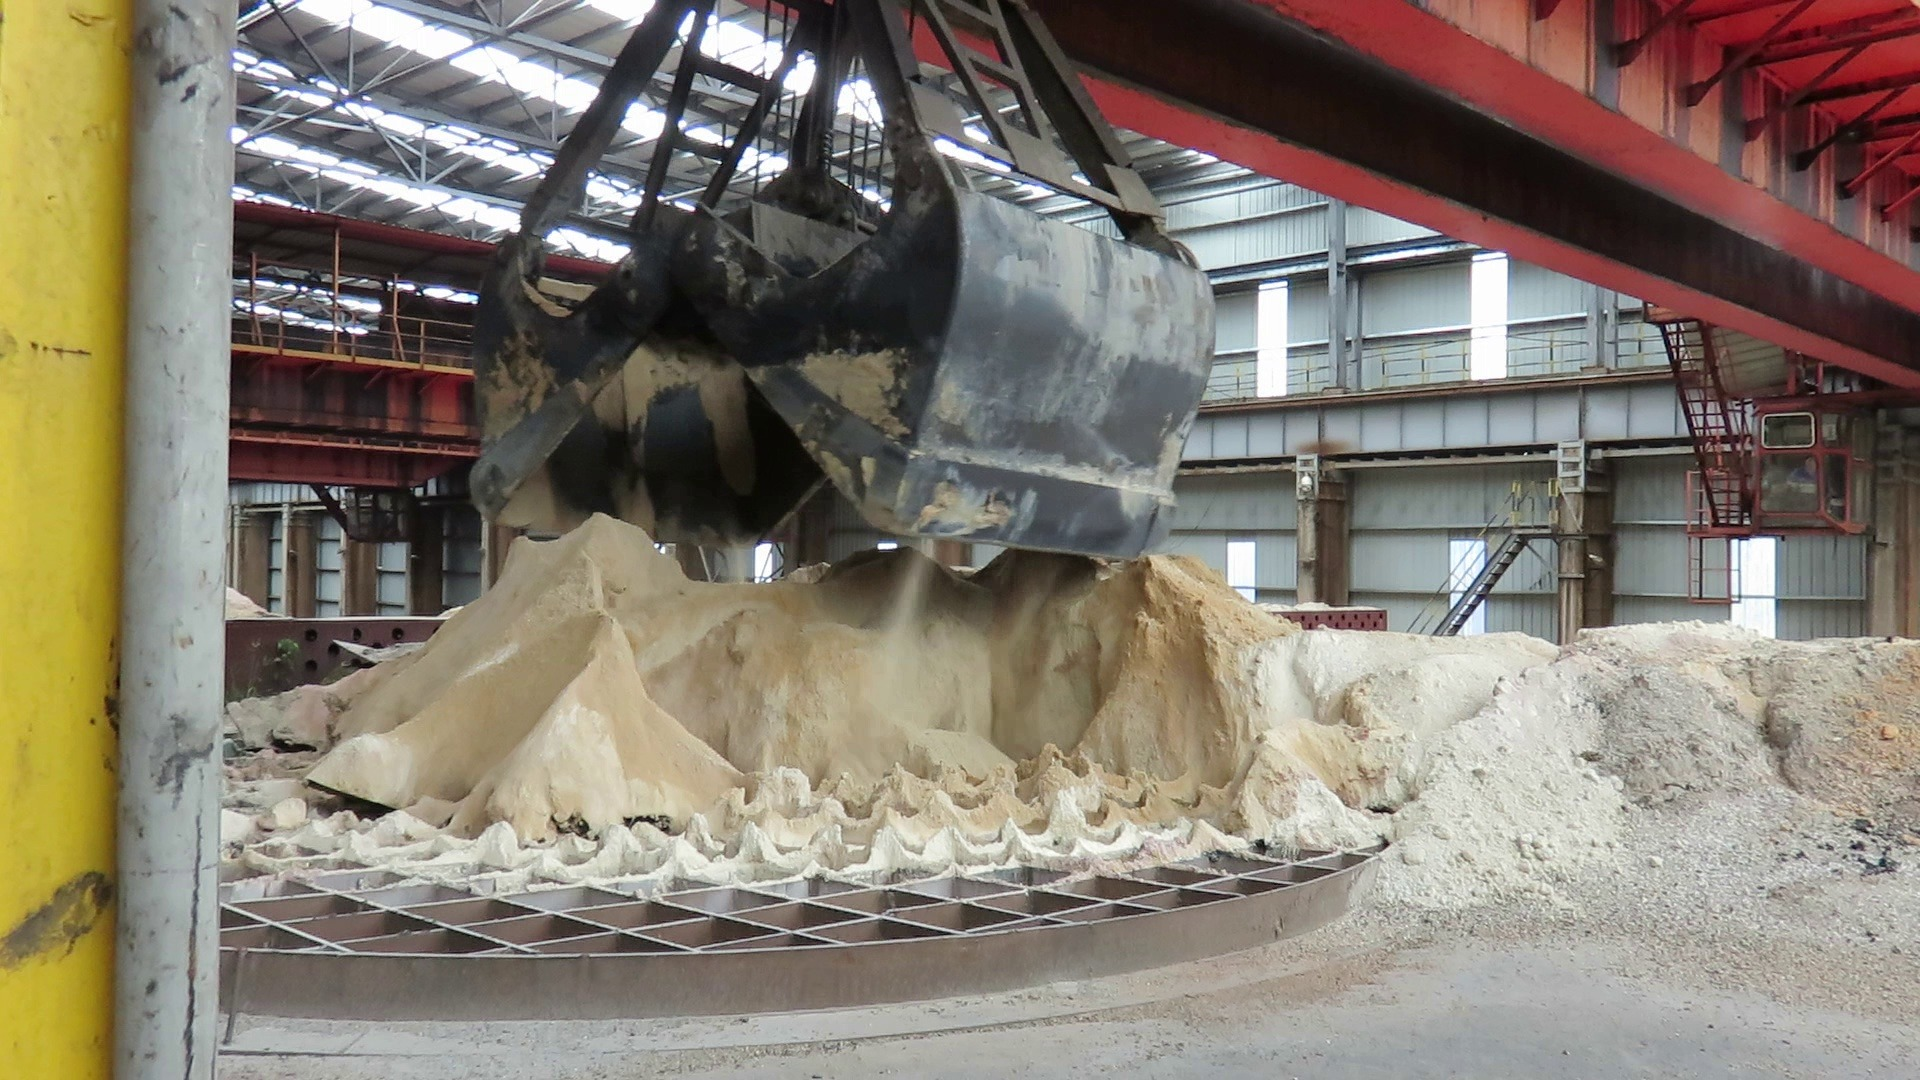grab: (460, 0, 1222, 574)
